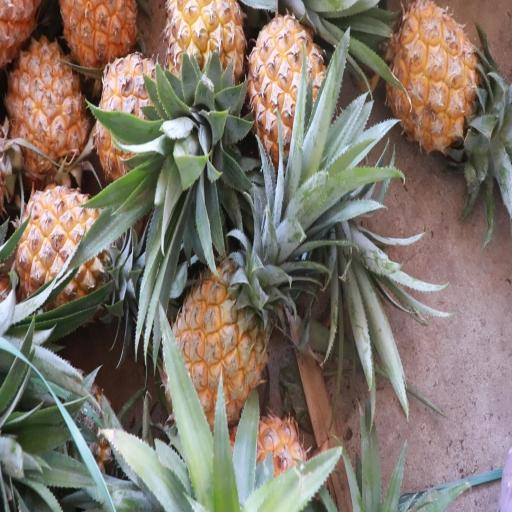Pineapple - v8 v1: (155, 243, 289, 437), (7, 180, 122, 338), (382, 0, 486, 161), (243, 2, 337, 177), (160, 0, 252, 178), (92, 46, 190, 208), (0, 26, 93, 187), (54, 0, 144, 88)
